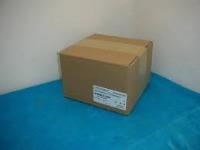undamaged: (55, 32, 153, 117)
